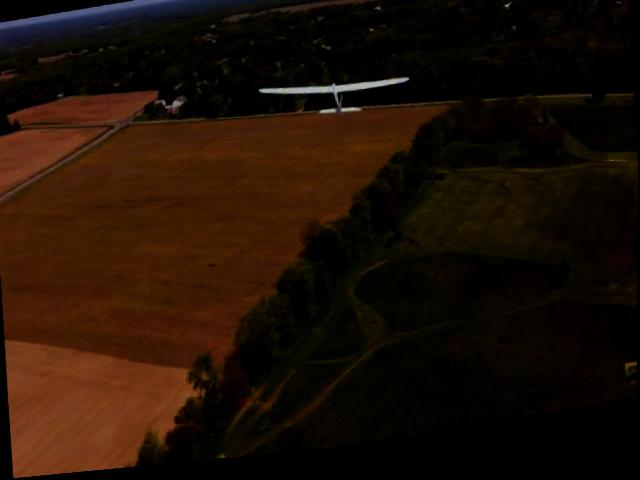uav: (248, 58, 418, 141)
